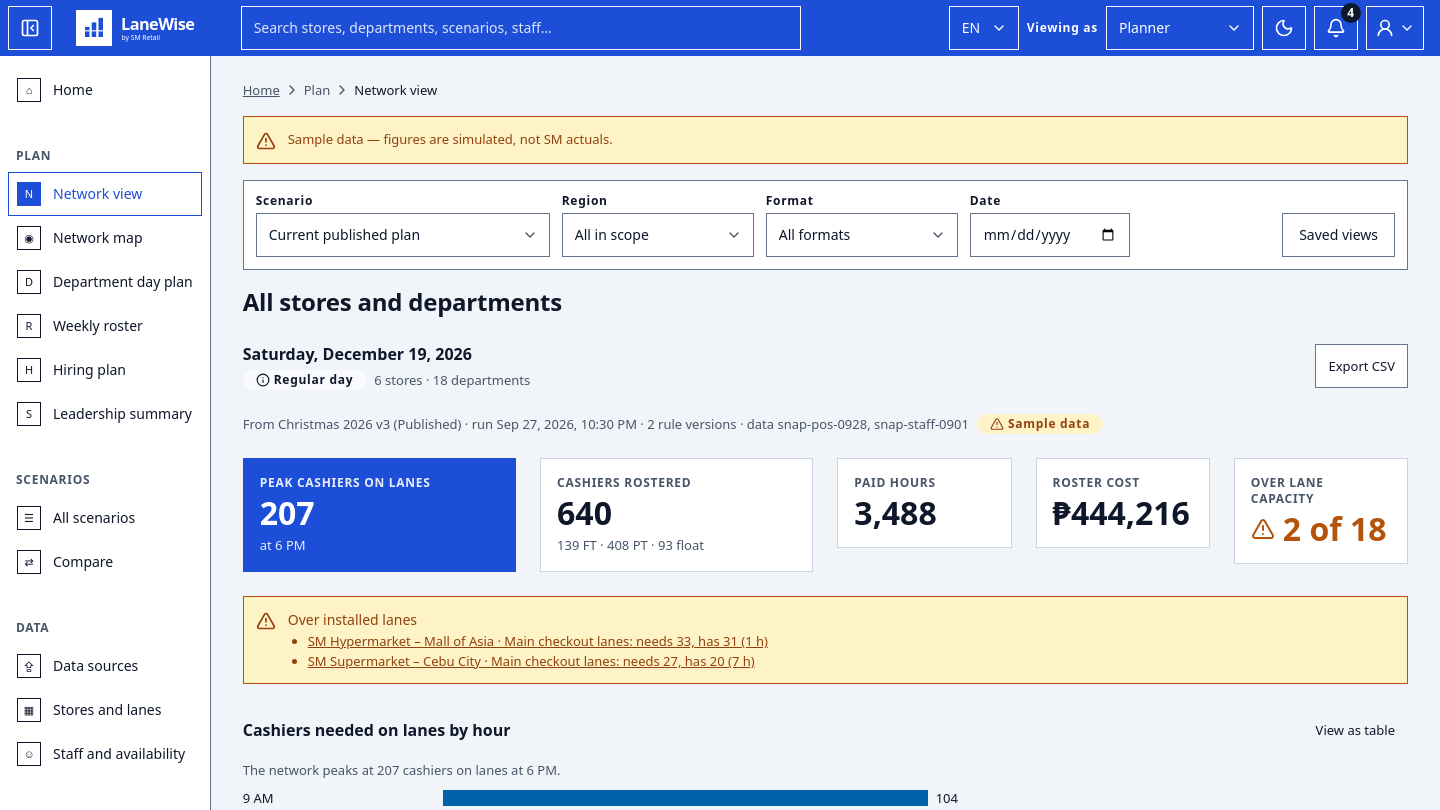
Test: "Viewing as" role switcher (requirement 3) › keeps the current page when the new role may open it
Select "Finance" in the dropdown labelled "Viewing as". click: (1180, 28)
box: x1=1106 y1=6 x2=1254 y2=50
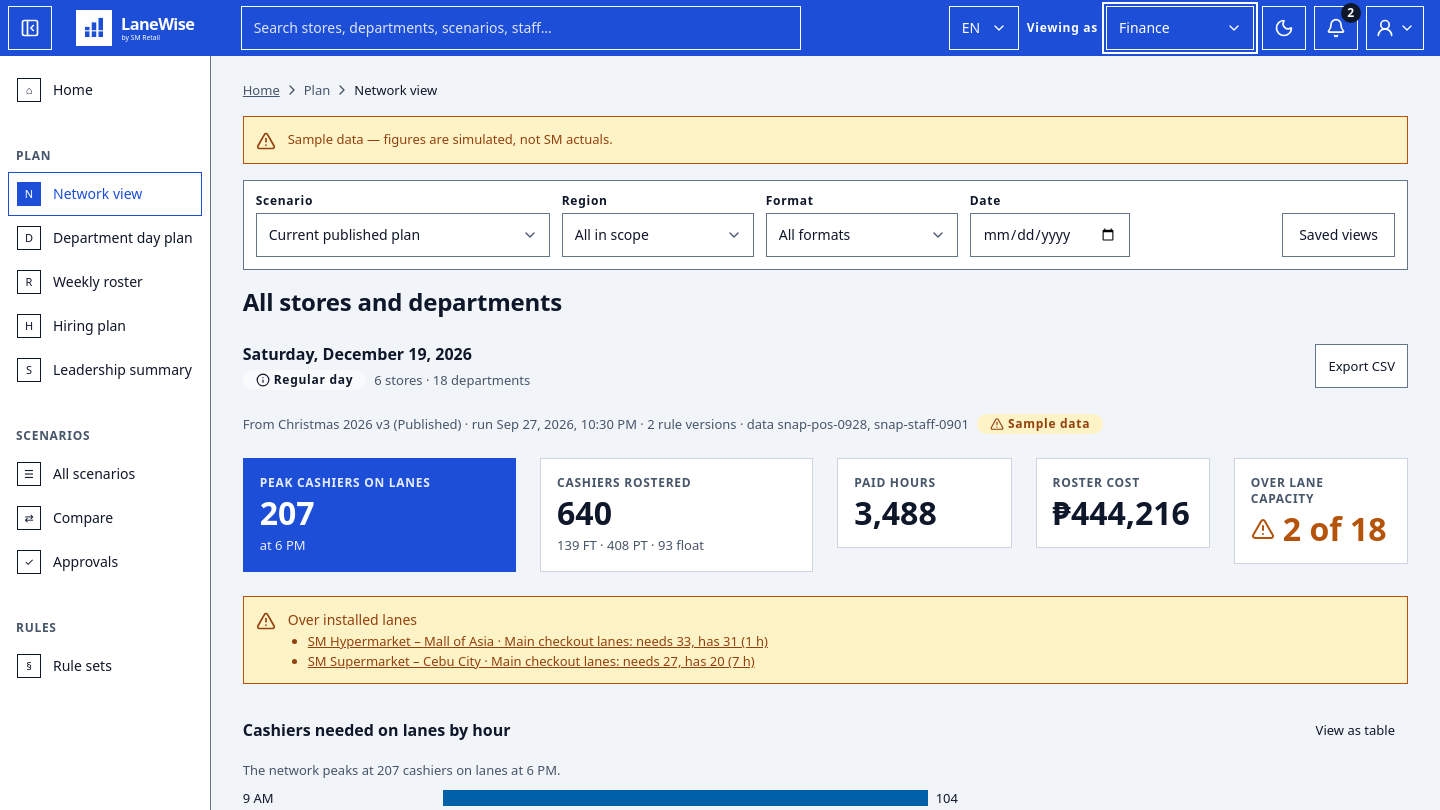
Expected: the heading "All stores and departments" is shown, x1=243 y1=285 x2=562 y2=318
Now the link "Network map" is gone
